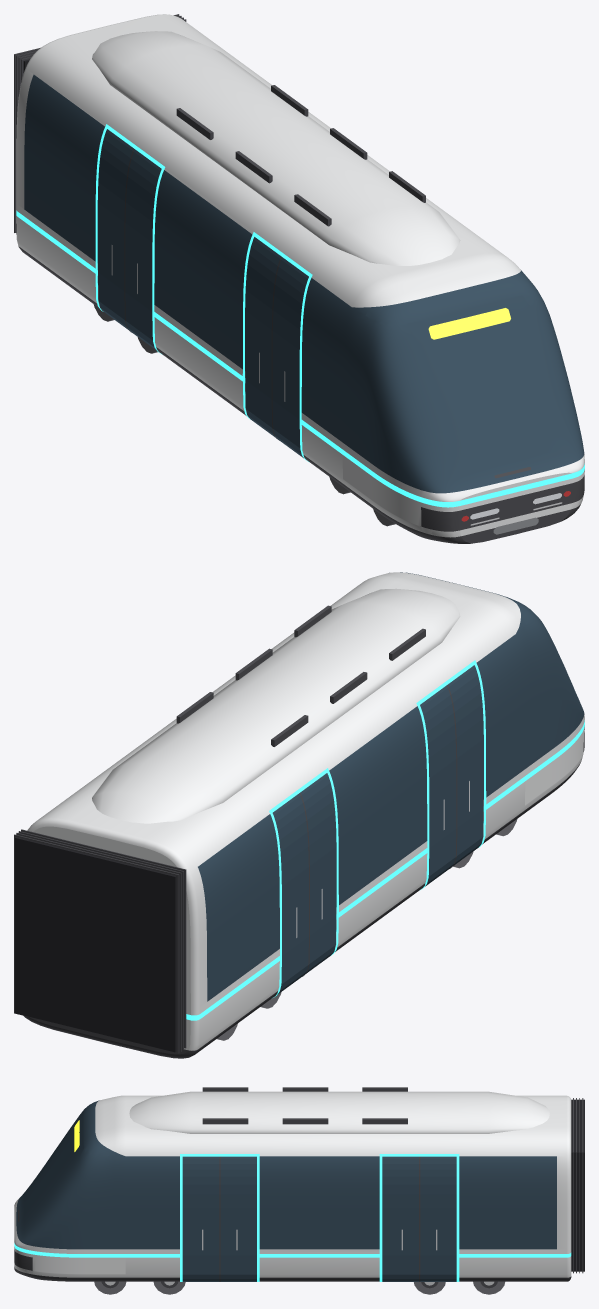
The model's file is 1_close.fbx.
3 renders of one model, top to bottom at view 1: azimuth 30°, elevation 25°; view 2: azimuth 150°, elevation 25°; view 3: azimuth 270°, elevation 25°, orthographic. The views are drawn at different scales.
Parts seen in each view (by area): view 1: 14_1_close; view 2: 14_1_close; view 3: 14_1_close.
Boxes of the visible parts, <box> form: 14_1_close: <box>14,14,584,543</box>; 14_1_close: <box>14,572,584,1058</box>; 14_1_close: <box>14,1087,584,1294</box>.
Size of the model in its own units: 2.53 by 3.37 by 10.01.
